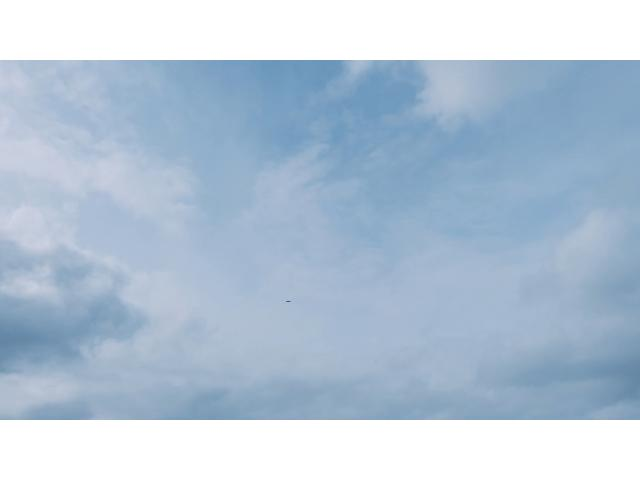Anti-Drone: (284, 299, 294, 305)
